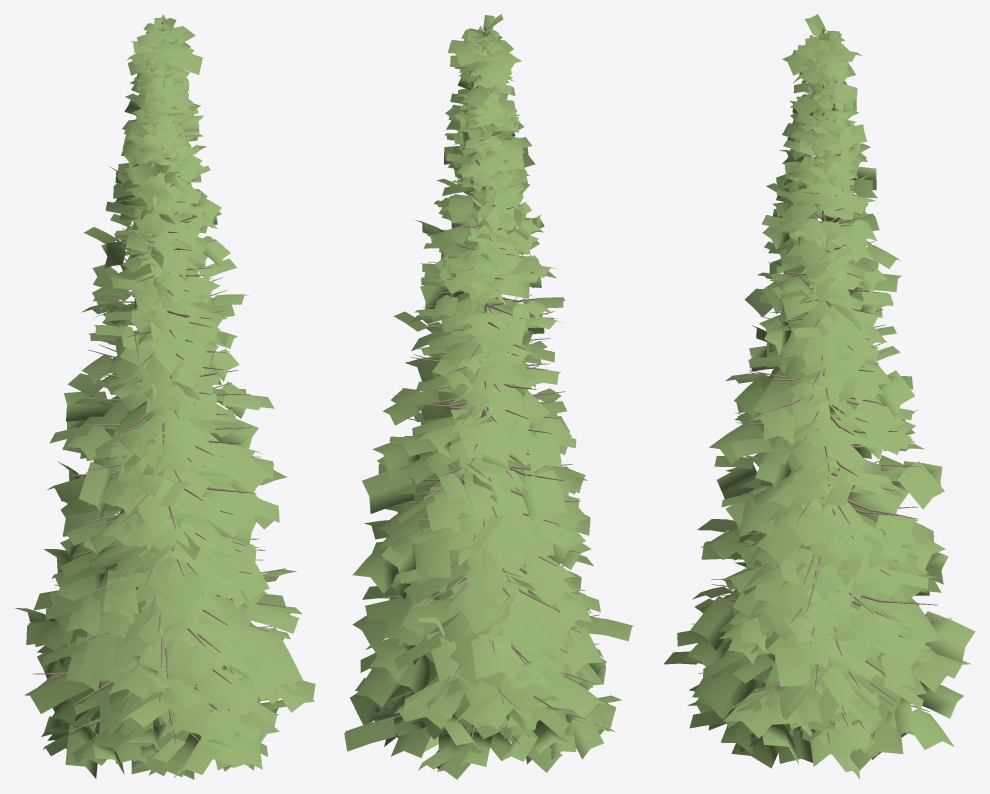
The model's file is Conifer_11_young_lod0.glb.
3 renders of one model, left to right at view 1: azimuth 30°, elevation 25°; view 2: azimuth 150°, elevation 25°; view 3: azimuth 270°, elevation 25°, orthographic. The views are drawn at different scales.
Visible parts, largest first — view 1: Conifer_11_young_lod0; view 2: Conifer_11_young_lod0; view 3: Conifer_11_young_lod0.
Part boxes in pixels (left/top/right/bottom): Conifer_11_young_lod0: left=15, top=14, right=315, bottom=779; Conifer_11_young_lod0: left=344, top=14, right=633, bottom=779; Conifer_11_young_lod0: left=663, top=14, right=975, bottom=779.
Size of the model in its own units: 2.68 by 7.7 by 2.99.
